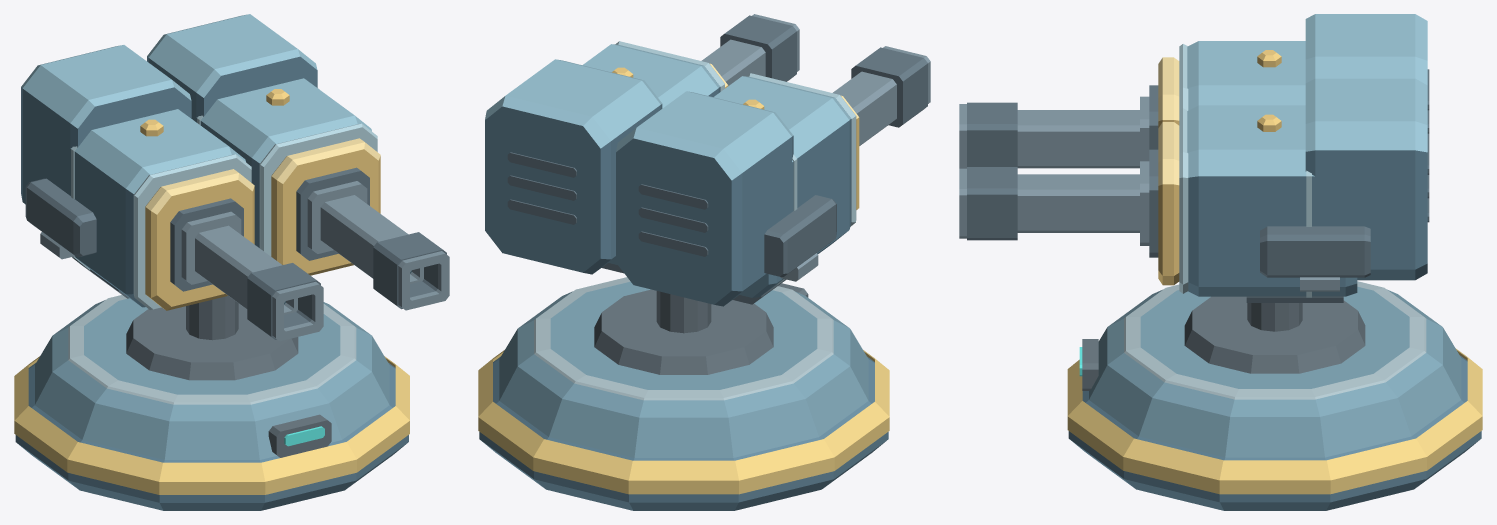
Rendered from Turret_MG_T2.fbx.
3 views of the same model, side by side, from view 1: azimuth 30°, elevation 25°; view 2: azimuth 150°, elevation 25°; view 3: azimuth 270°, elevation 25° (orthographic). The views are drawn at different scales.
Visible parts, largest first — view 1: TwinReceiverBridge, MG_Base; view 2: TwinReceiverBridge, MG_Base; view 3: TwinReceiverBridge, MG_Base.
Part boxes in pixels (bbox=[...]): TwinReceiverBridge: bbox=[21, 14, 449, 341]; MG_Base: bbox=[14, 295, 409, 510]; TwinReceiverBridge: bbox=[485, 14, 930, 306]; MG_Base: bbox=[478, 277, 889, 510]; TwinReceiverBridge: bbox=[959, 14, 1429, 302]; MG_Base: bbox=[1067, 281, 1482, 510].
Bounding box in the file's own units: 218 × 210 × 274.
